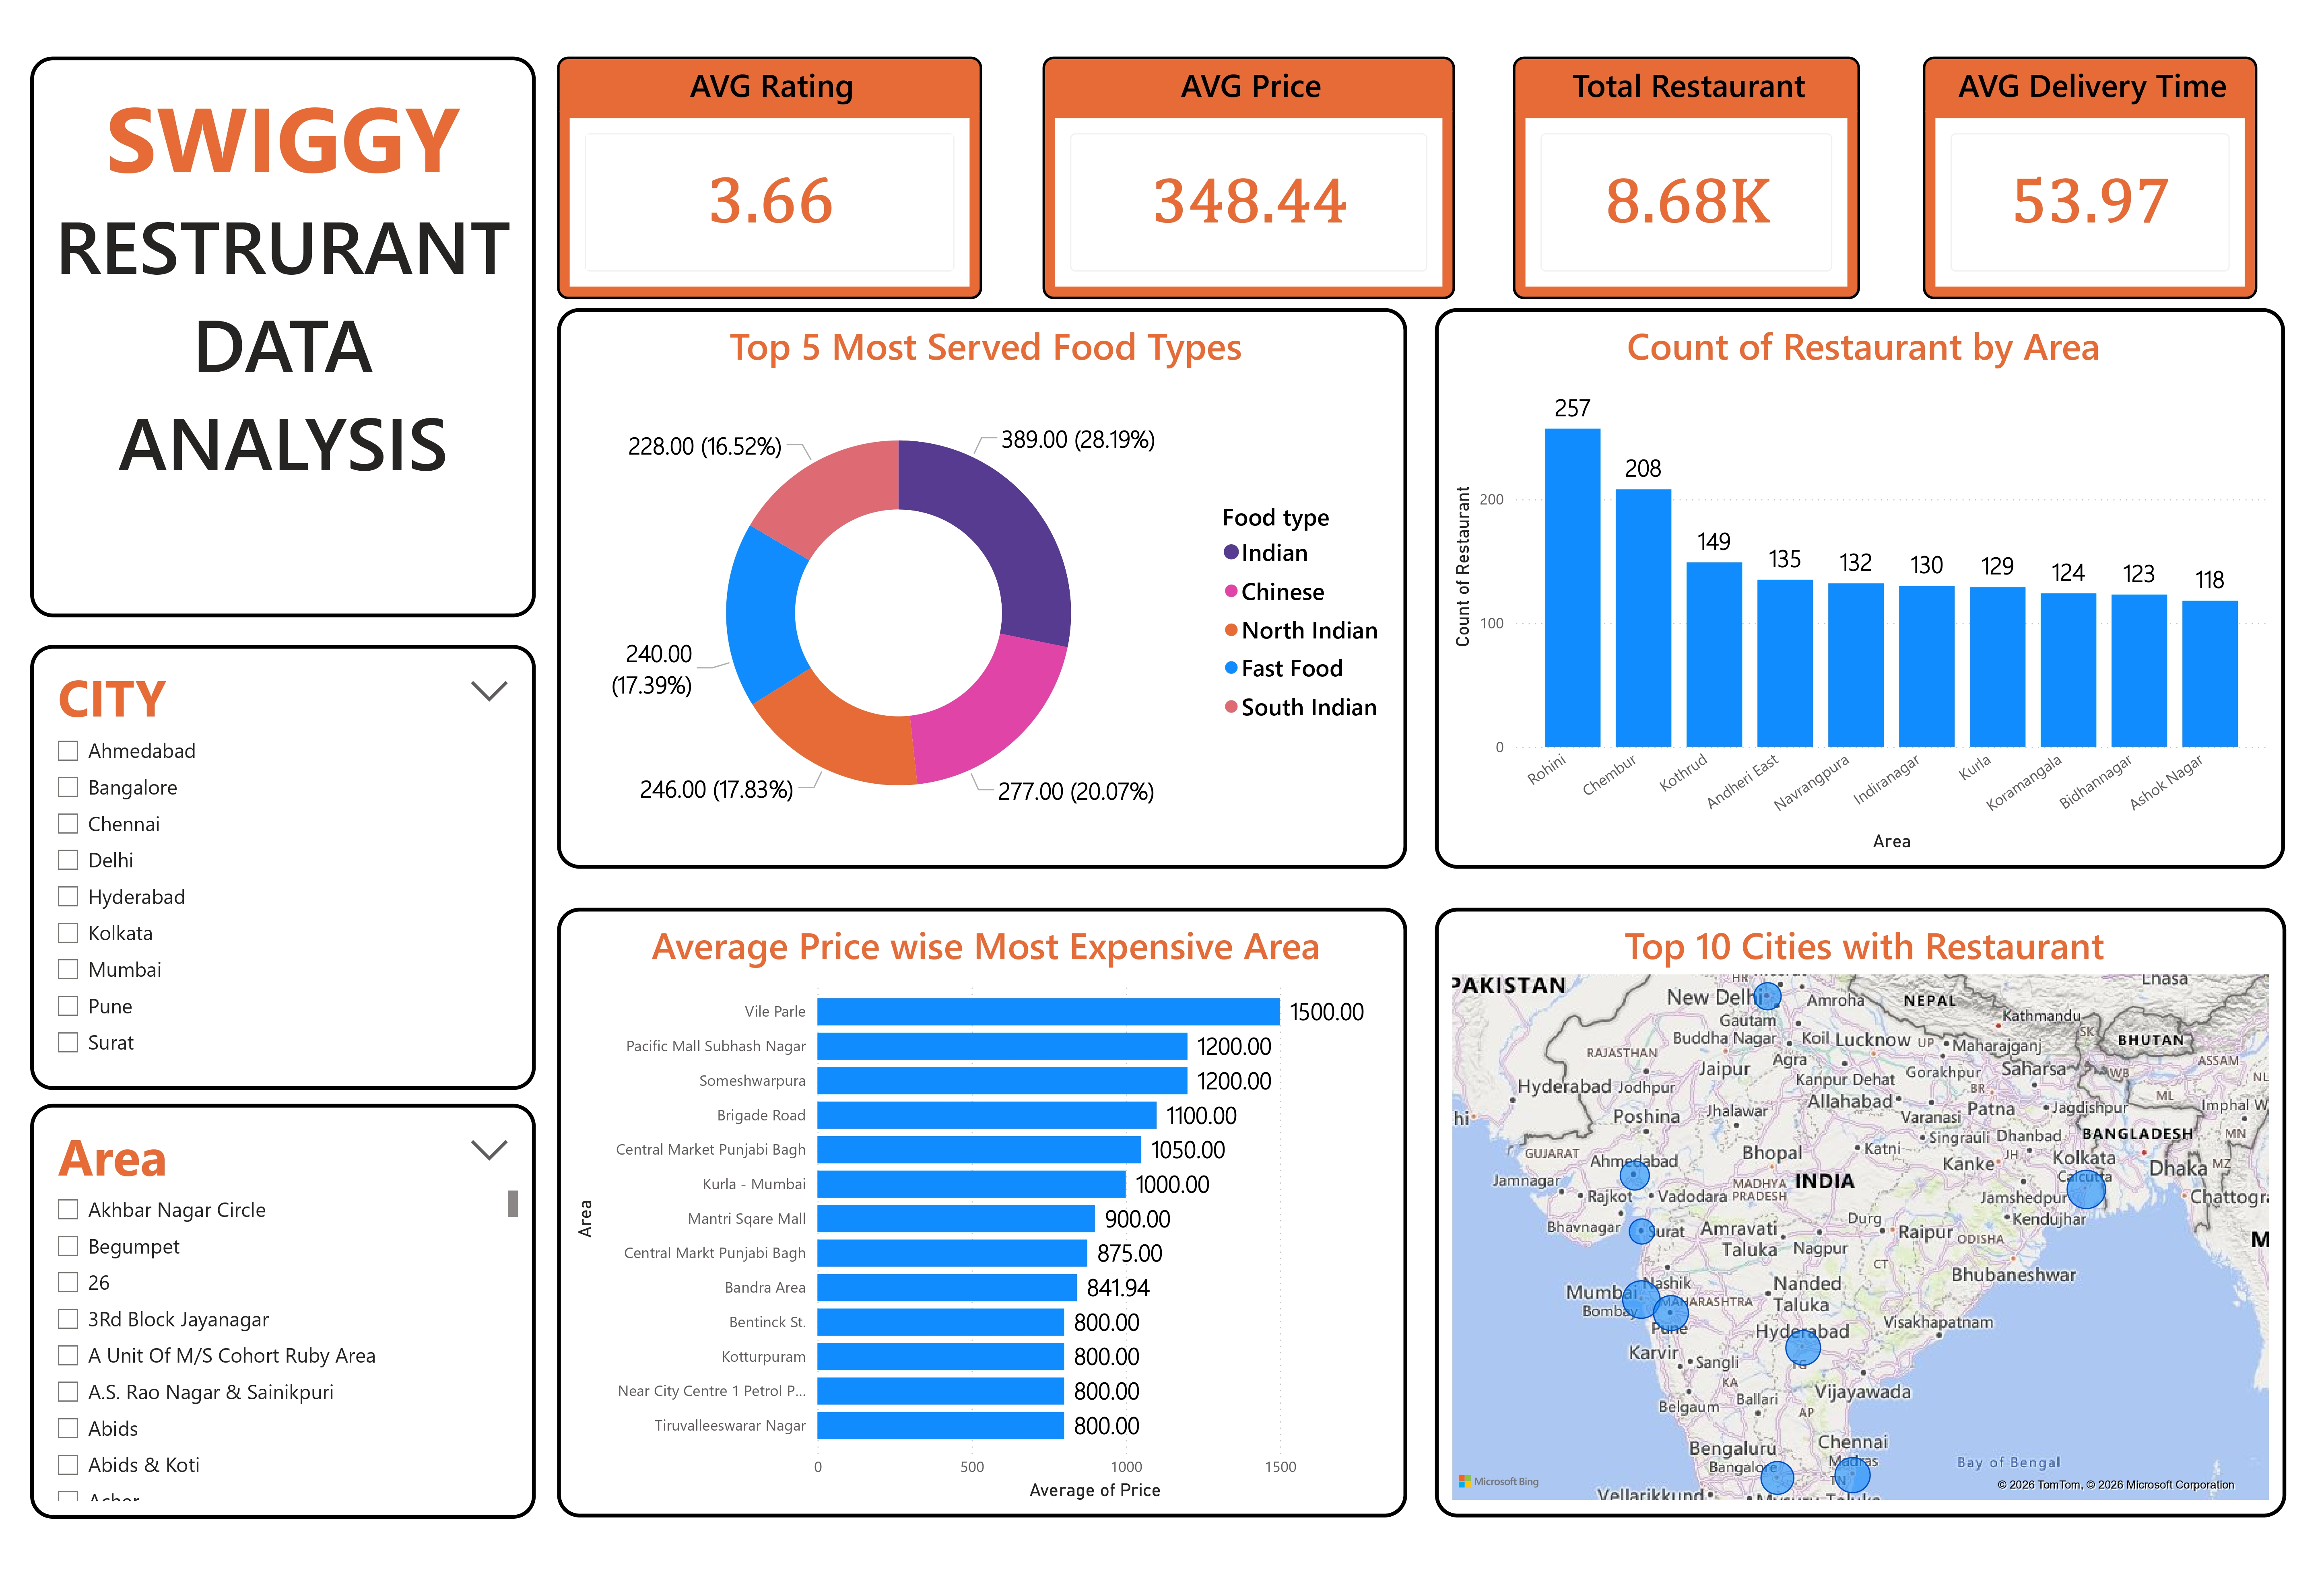

This screenshot's page, from the dashboard's own definition file:
{"tool":"powerbi","page":{"name":"Page 1","canvas":[1800,1200],"ordinal":0},"visuals":[{"type":"cardVisual","title":"AVG Rating","fields":{"Data":["Avg(swiggy.Avg ratings)"]},"box":[419,21.4,338.1,192.9],"z":0},{"type":"cardVisual","title":"AVG Price","fields":{"Data":["Avg(swiggy.Price)"]},"box":[804.8,21.4,328.6,192.9],"z":1000},{"type":"cardVisual","title":"Total Restaurant","fields":{"Data":["CountNonNull(swiggy.Restaurant)"]},"box":[1178.6,21.4,276.2,192.9],"z":2000},{"type":"cardVisual","title":"AVG Delivery Time","fields":{"Data":["Avg(swiggy.Delivery time)"]},"box":[1504.8,21.4,266.7,192.9],"z":3000},{"type":"textbox","box":[150,295,300,300],"z":4000},{"type":"textbox","box":[0,21.4,402.4,445.2],"z":5000},{"type":"donutChart","title":"Top 5 Most Served Food Types","fields":{"Category":["swiggy.Food type"],"Y":["CountNonNull(swiggy.Food type)"]},"box":[419,221.4,676.2,445.2],"z":6000},{"type":"columnChart","fields":{"Y":["CountNonNull(swiggy.Restaurant)"],"Category":["swiggy.Area"]},"box":[1116.7,221.4,676.2,445.2],"z":7000},{"type":"clusteredBarChart","fields":{"Category":["swiggy.Area"],"Y":["Avg(swiggy.Price)"]},"box":[419,697.6,676.2,485.7],"z":8000},{"type":"map","fields":{"Category":["swiggy.City"],"Size":["CountNonNull(swiggy.Restaurant)"]},"box":[1116.7,697.6,654.8,485.7],"z":8001}]}

Visuals, with their boxes in screenshot pixels (x1, y1, x2, y2):
"AVG Rating" cardVisual: (left=557, top=57, right=982, bottom=300)
"AVG Price" cardVisual: (left=1042, top=57, right=1456, bottom=300)
"Total Restaurant" cardVisual: (left=1512, top=57, right=1860, bottom=300)
"AVG Delivery Time" cardVisual: (left=1923, top=57, right=2258, bottom=300)
textbox: (left=219, top=401, right=596, bottom=778)
textbox: (left=30, top=57, right=536, bottom=617)
"Top 5 Most Served Food Types" donutChart: (left=557, top=309, right=1408, bottom=868)
columnChart - CountNonNull(swiggy.Restaurant) x swiggy.Area: (left=1435, top=309, right=2285, bottom=868)
clusteredBarChart - swiggy.Area x Avg(swiggy.Price): (left=557, top=907, right=1408, bottom=1518)
map - swiggy.City x CountNonNull(swiggy.Restaurant): (left=1435, top=907, right=2258, bottom=1518)
